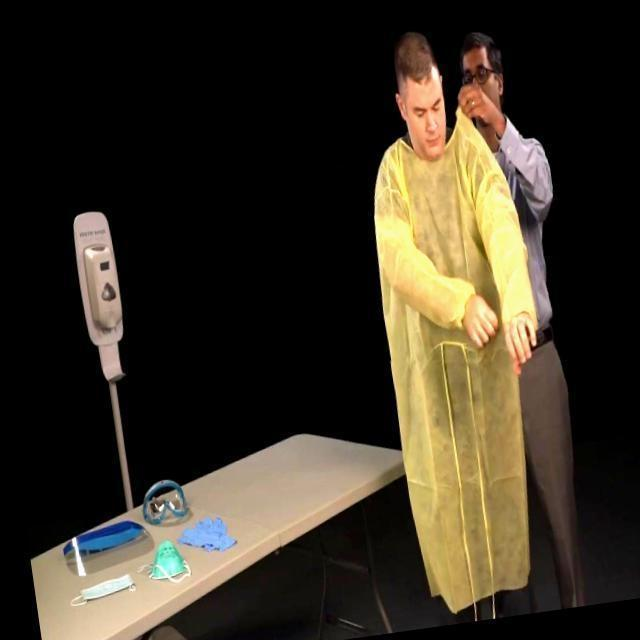no_apron: (504, 316, 542, 373), (454, 80, 496, 122), (466, 296, 494, 358)
no_hairnet: (408, 111, 444, 152)
